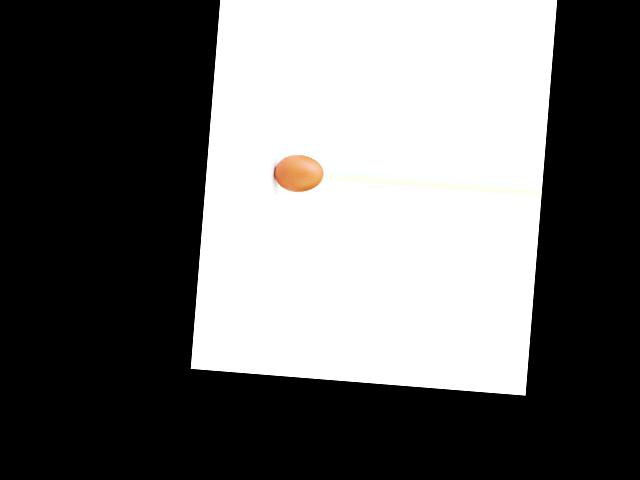egg: (272, 154, 324, 193)
